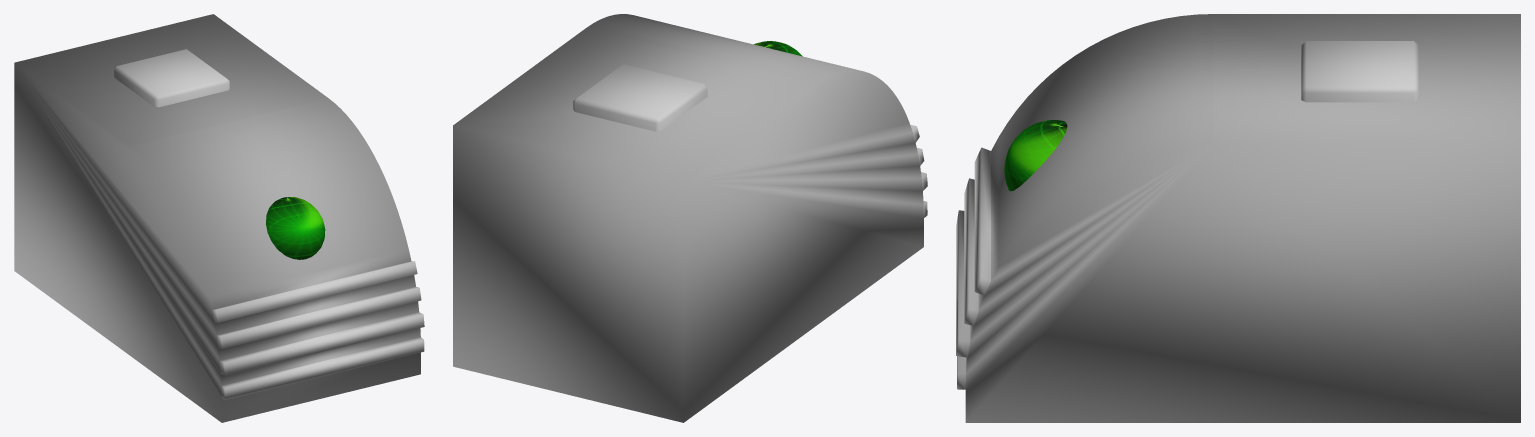
File: Autopilot-Block_Large_LOD3.fbx
3 renders of one model, left to right at view 1: azimuth 30°, elevation 25°; view 2: azimuth 150°, elevation 25°; view 3: azimuth 270°, elevation 25°, orthographic. The views are drawn at different scales.
Parts seen in each view (by area): view 1: LOD3_MainCube, LOD3_TopCube, LOD3_RadarSphere; view 2: LOD3_MainCube, LOD3_TopCube; view 3: LOD3_MainCube, LOD3_TopCube, LOD3_RadarSphere.
Boxes of the visible parts, x1,y1,x2,y2 form: LOD3_MainCube: (14,14,424,422); LOD3_TopCube: (114,49,229,107); LOD3_RadarSphere: (266,197,325,259); LOD3_MainCube: (453,14,927,422); LOD3_TopCube: (573,64,707,131); LOD3_MainCube: (956,14,1520,422); LOD3_TopCube: (1301,41,1418,102); LOD3_RadarSphere: (1004,120,1067,191).
Size of the model in its own units: 250 by 263 by 459.
